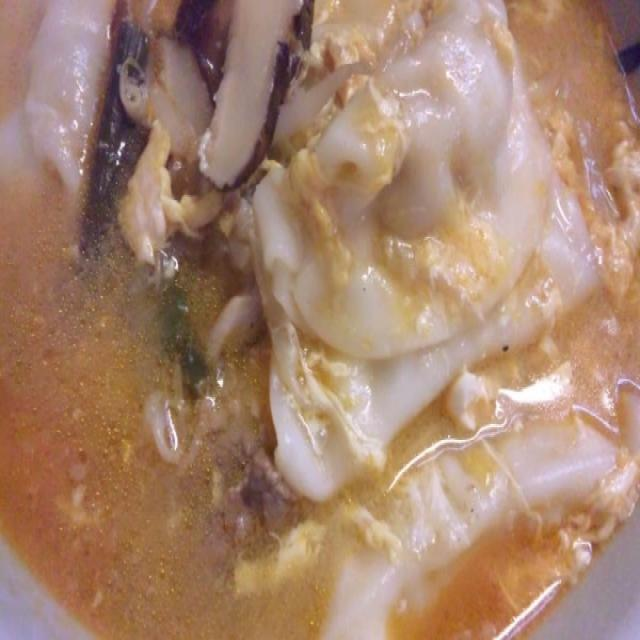带馅早点: (14, 16, 608, 570)
